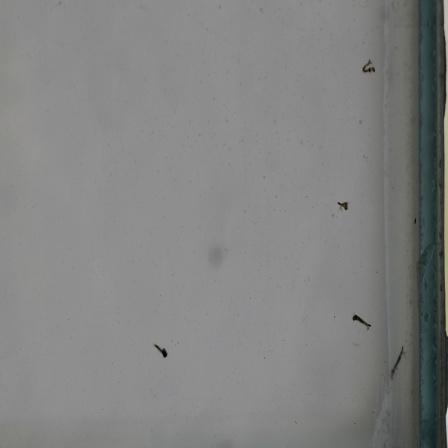Jentik-Nyamuk: (387, 343, 406, 381), (347, 310, 374, 332), (149, 340, 170, 363), (360, 57, 378, 77), (334, 198, 350, 215)
